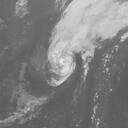cyclone: (46, 33, 76, 86)
